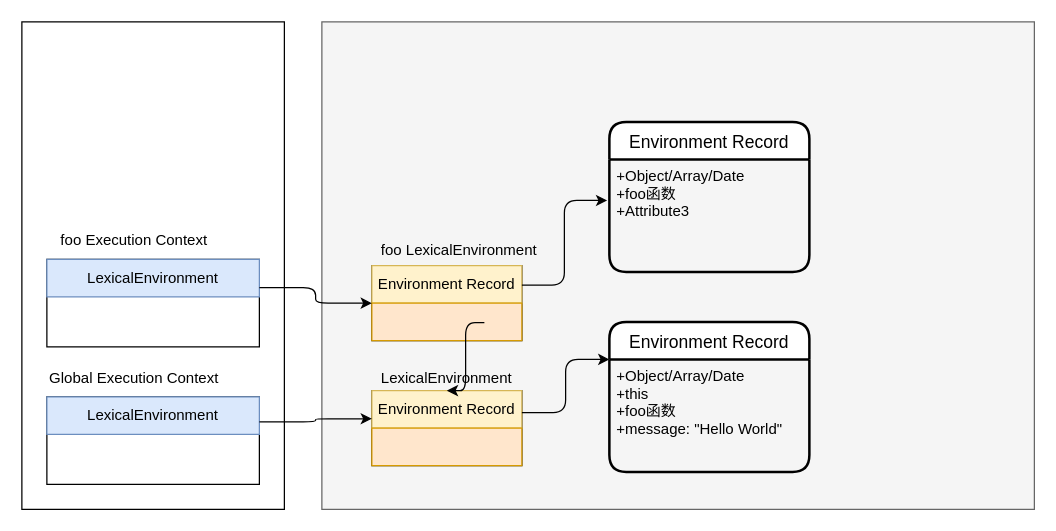
Image size: 1056x531. Some labels were removed from this diagram. The box of each missing label's shape, as (x1, y1, x2, y2) in pixels:
outer: global: (371, 302, 522, 341)
outer: null: (371, 427, 522, 466)
